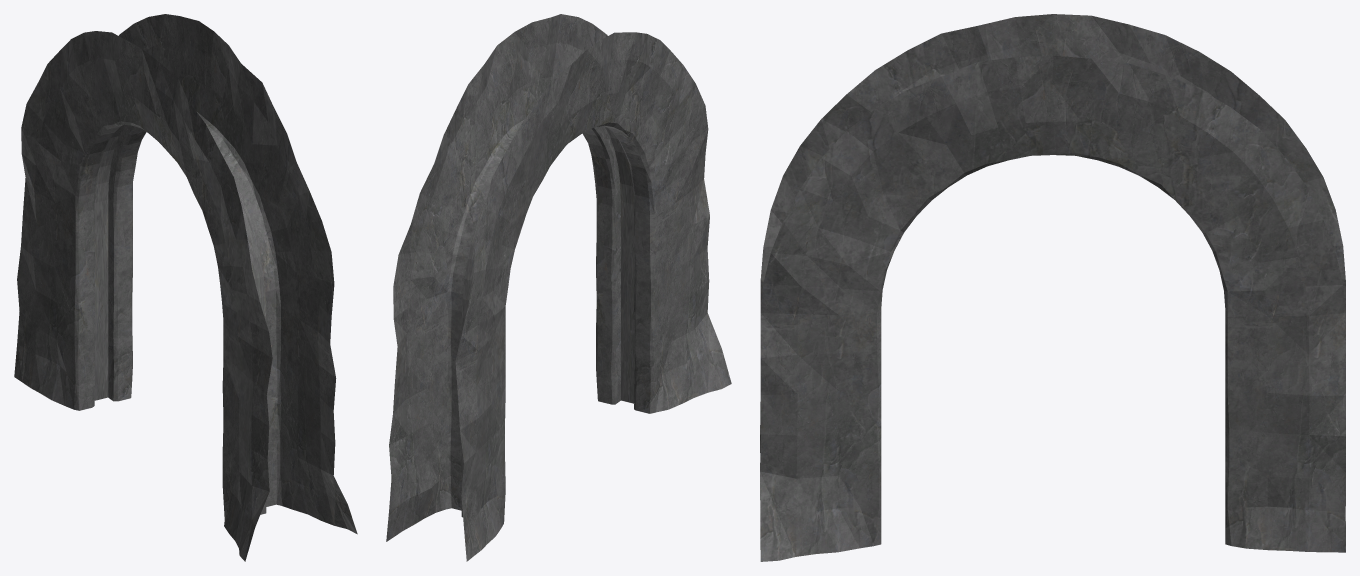
File: CaveWallDoorFrame.fbx
3 renders of one model, left to right at view 1: azimuth 30°, elevation 25°; view 2: azimuth 150°, elevation 25°; view 3: azimuth 270°, elevation 25°, orthographic. The views are drawn at different scales.
Parts seen in each view (by area): view 1: SM_ENV_NATURE_Cave_Wall_DoorFrame_02.mo; view 2: SM_ENV_NATURE_Cave_Wall_DoorFrame_02.mo; view 3: SM_ENV_NATURE_Cave_Wall_DoorFrame_02.mo.
Boxes of the visible parts, box(x1,y1,x2,y2) form: SM_ENV_NATURE_Cave_Wall_DoorFrame_02.mo: box(14, 14, 357, 561); SM_ENV_NATURE_Cave_Wall_DoorFrame_02.mo: box(386, 14, 731, 561); SM_ENV_NATURE_Cave_Wall_DoorFrame_02.mo: box(760, 14, 1345, 561).
Bounding box in the file's own units: 179 × 634 × 681.
Materials: 2 (2 with a texture image).
